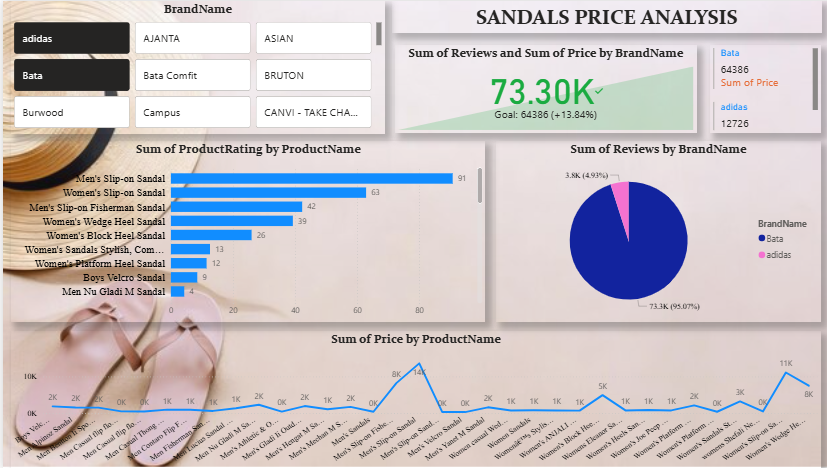

What the dashboard file says about the page in this screenshot:
{"tool":"powerbi","page":{"name":"Page 1","canvas":[1280,720],"ordinal":0},"visuals":[{"type":"advancedSlicerVisual","fields":{"Values":["amazonsandals sandals.BrandName"]},"box":[12.5,0,575,203.6],"z":0},{"type":"clusteredBarChart","fields":{"Category":["amazonsandals sandals.ProductName"],"Y":["Sum(amazonsandals sandals.ProductRating)"]},"box":[12.5,216.1,730.4,278.6],"z":1000},{"type":"pieChart","fields":{"Category":["amazonsandals sandals.BrandName"],"Y":["Sum(amazonsandals sandals.Reviews)"]},"box":[758.9,216.1,500,278.6],"z":2000},{"type":"kpi","fields":{"Indicator":["Sum(amazonsandals sandals.Reviews)"],"Goal":["Sum(amazonsandals sandals.Price)"],"TrendLine":["amazonsandals sandals.BrandName"]},"box":[603.6,67.9,464.3,135.7],"z":3000},{"type":"multiRowCard","fields":{"Values":["amazonsandals sandals.BrandName","Sum(amazonsandals sandals.Price)"]},"box":[1087.5,67.9,171.4,135.7],"z":4000},{"type":"lineChart","fields":{"Category":["amazonsandals sandals.ProductName"],"Y":["Sum(amazonsandals sandals.Price)"]},"box":[12.5,507.1,1246.4,212.5],"z":5000},{"type":"textbox","box":[598.2,0,660.7,50],"z":6000}]}

Visuals, with their boxes in screenshot pixels (x1, y1, x2, y2), scaled from the page's 1280x720 canvas onto the 827x468 screenshot:
advancedSlicerVisual - amazonsandals sandals.BrandName: 8/0/380/132
clusteredBarChart - amazonsandals sandals.ProductName x Sum(amazonsandals sandals.ProductRating): 8/140/480/322
pieChart - amazonsandals sandals.BrandName x Sum(amazonsandals sandals.Reviews): 490/140/813/322
kpi - Sum(amazonsandals sandals.Reviews) x Sum(amazonsandals sandals.Price): 390/44/690/132
multiRowCard - amazonsandals sandals.BrandName x Sum(amazonsandals sandals.Price): 703/44/813/132
lineChart - amazonsandals sandals.ProductName x Sum(amazonsandals sandals.Price): 8/330/813/467
textbox: 386/0/813/32
